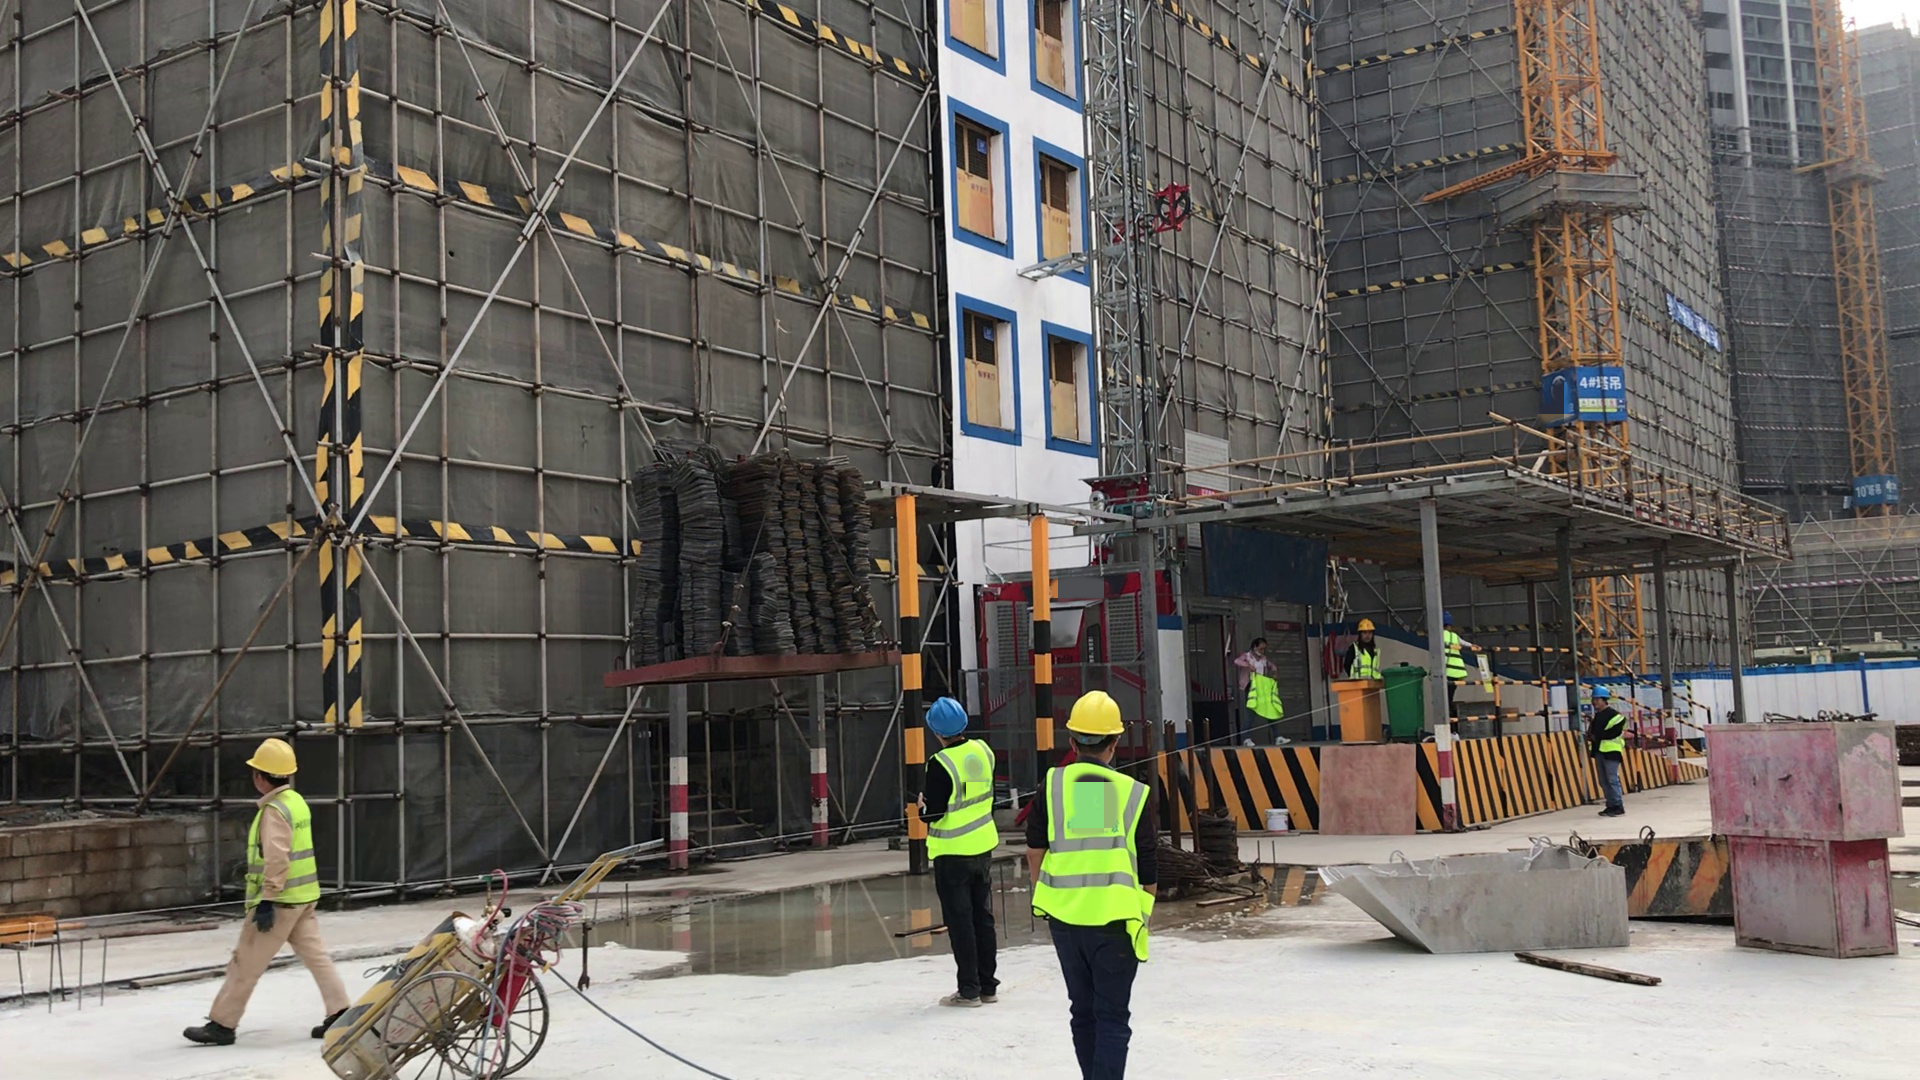fence: (1423, 637, 1717, 765)
handcart: (299, 846, 702, 1080)
helmet: (1058, 685, 1133, 741), (240, 723, 308, 784), (912, 693, 977, 742), (1592, 676, 1621, 716), (1355, 615, 1383, 635)
hopper: (1307, 828, 1654, 973)
person: (1027, 680, 1195, 1080), (179, 722, 369, 1058), (881, 684, 1023, 1014), (1574, 657, 1647, 823), (1225, 634, 1296, 747), (1435, 612, 1500, 714), (1343, 601, 1390, 695)
slogan: (1510, 338, 1657, 428), (1642, 277, 1730, 359), (1831, 461, 1914, 528), (1467, 647, 1510, 715)
vest: (1030, 749, 1179, 981), (224, 787, 341, 922), (921, 734, 1002, 874), (1245, 671, 1290, 724), (1433, 628, 1472, 687), (1348, 640, 1390, 690), (1587, 713, 1629, 758)
